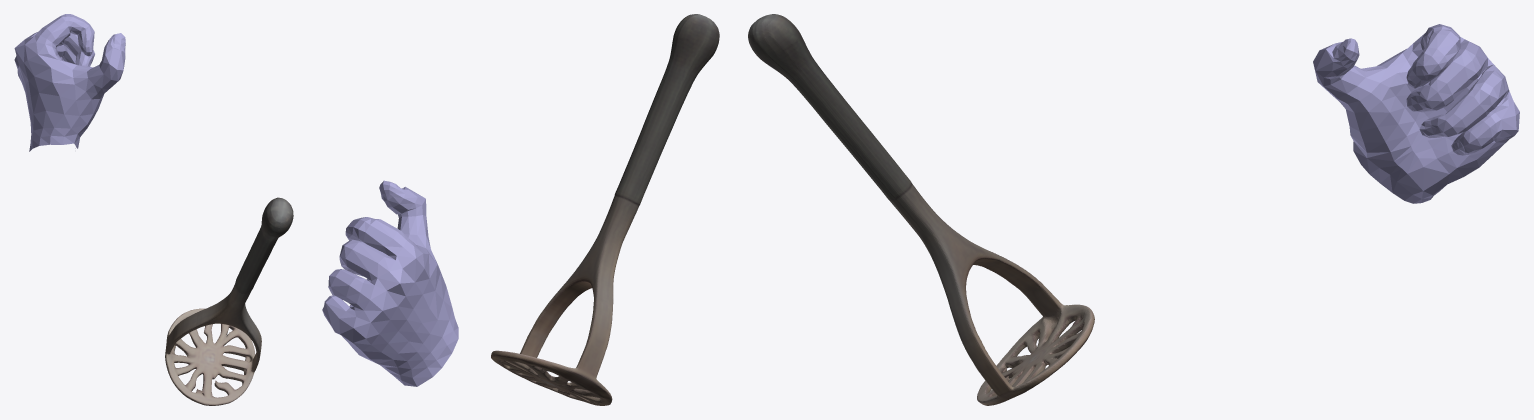
File: frame_0006_source_000006_hand_object.glb
The picture shows the model from 3 angles, left to right: view 1: azimuth 30°, elevation 25°; view 2: azimuth 150°, elevation 25°; view 3: azimuth 270°, elevation 25°; orthographic projection. The views are drawn at different scales.
Parts seen in each view (by area): view 1: world; view 2: world; view 3: world.
Part boxes in pixels (x1,y1,x2,y2): world: (14, 14, 293, 405); world: (322, 14, 719, 405); world: (748, 14, 1519, 405).
Size of the model in its own units: 0.0816 by 0.2298 by 0.4276.
